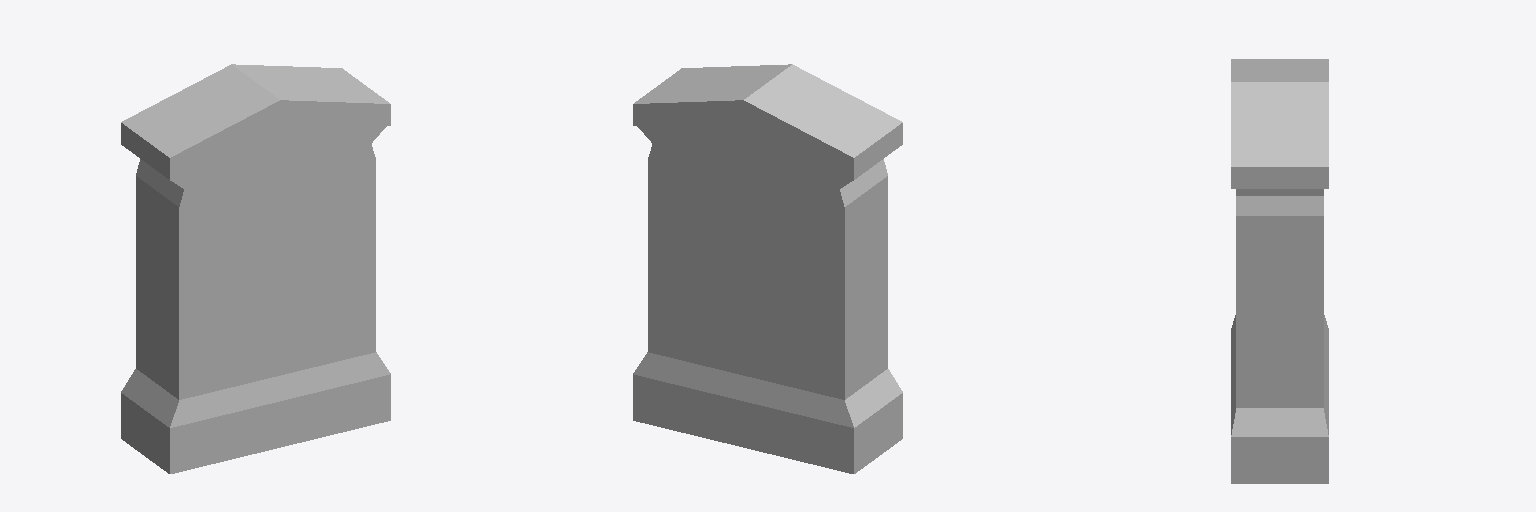
Rendered from gravestoneRoof.obj.
3 views of the same model, side by side, from view 1: azimuth 30°, elevation 25°; view 2: azimuth 150°, elevation 25°; view 3: azimuth 270°, elevation 25° (orthographic).
Parts seen in each view (by area): view 1: gravestoneRoof; view 2: gravestoneRoof; view 3: gravestoneRoof.
Boxes of the visible parts, box(x1,y1,x2,y2) form: gravestoneRoof: box(121, 64, 390, 473); gravestoneRoof: box(633, 64, 902, 473); gravestoneRoof: box(1231, 59, 1328, 483).
Size of the model in its own units: 0.39 by 0.585 by 0.1495.